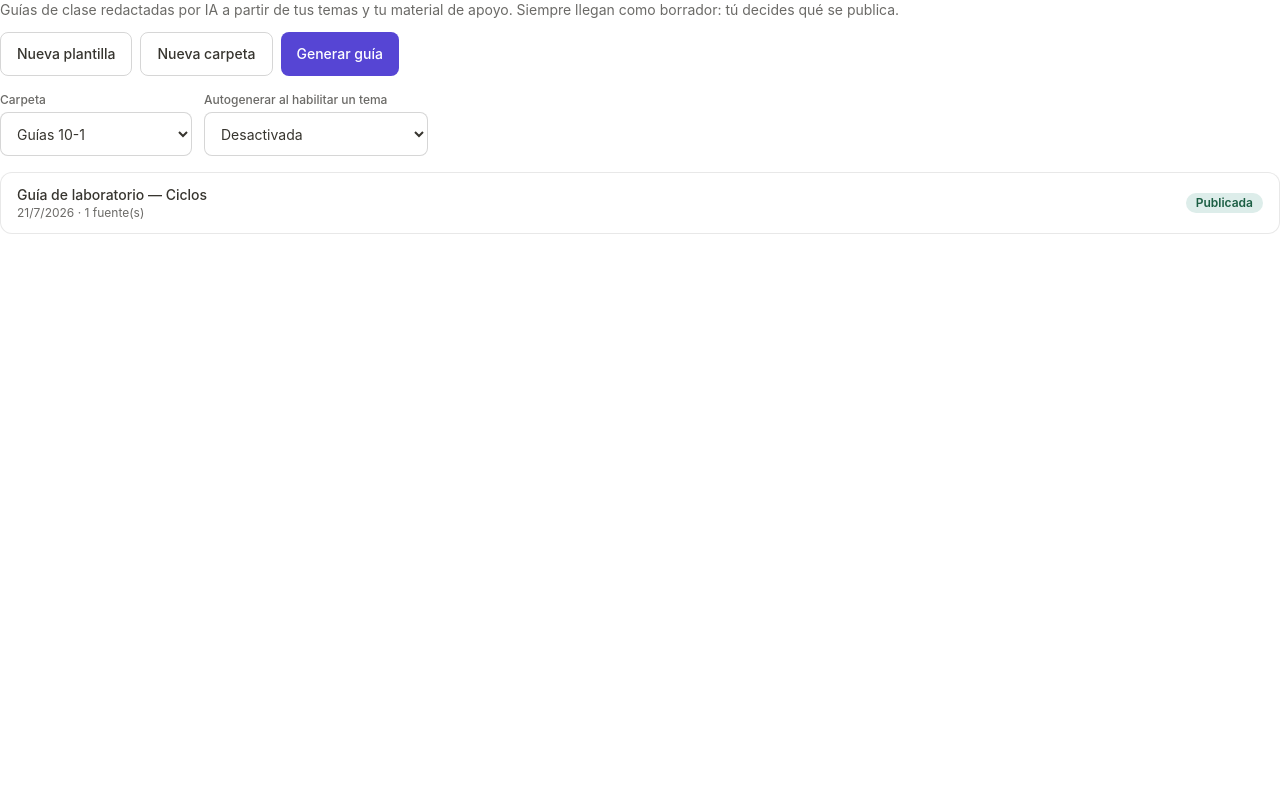
GuidesTab › una guía publicada no ofrece el botón de publicar
Click the button "Guía de laboratorio — Ciclos". click: (112, 194)
box: [0,172,1279,234]
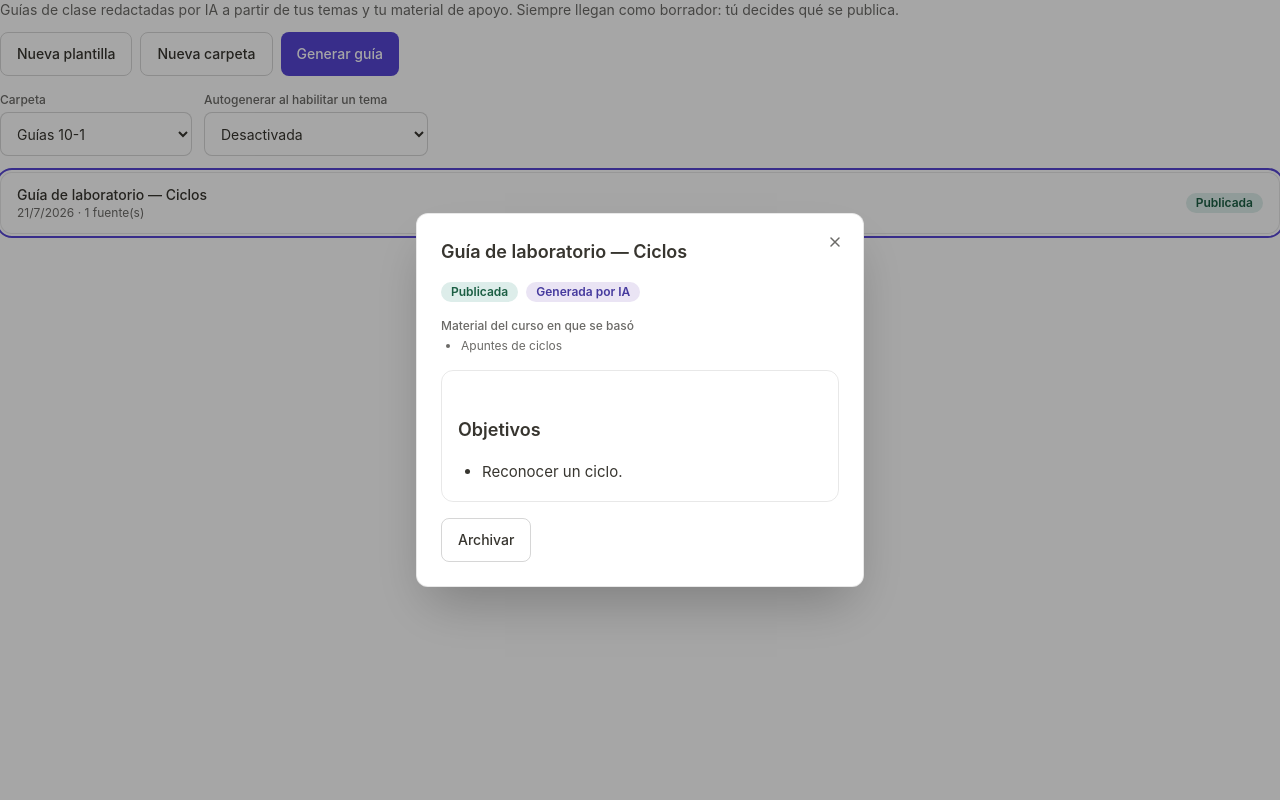
Result: the text "Publicada" is shown at [441,282,518,302]
Result: the button "Archivar" is shown at [441,518,531,562]
